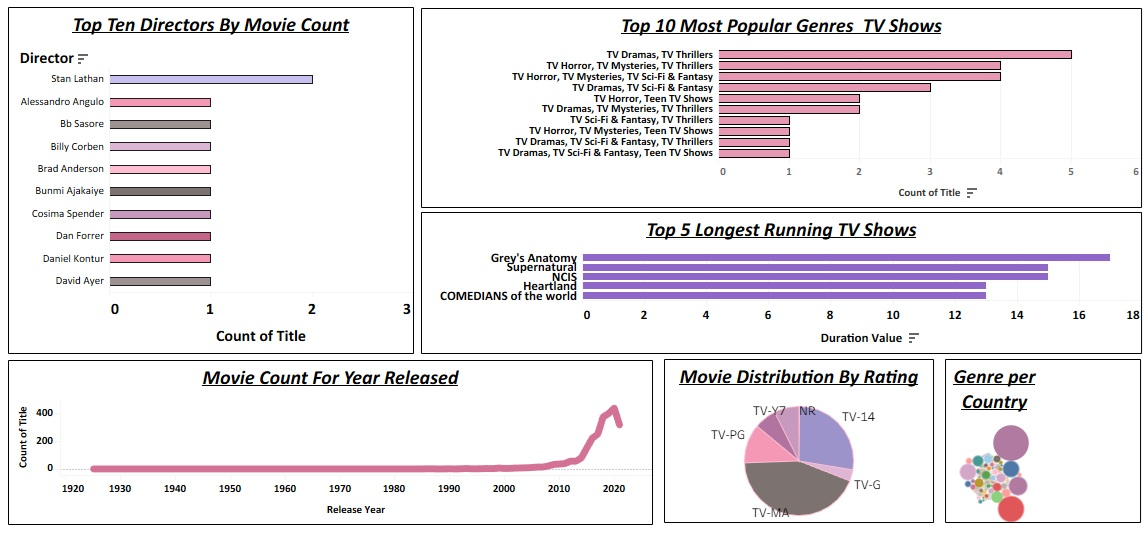

What the dashboard file says about the page in this screenshot:
{"tool":"tableau","page":{"name":"Dashboard 1","canvas":[1000,1000],"units":"permille","ordinal":0},"visuals":[{"type":"worksheet","title":"Top ten directors","mark":"Bar","rows":["director"],"cols":["title"],"box":[10,16.5,351.7,637.9]},{"type":"worksheet","title":"TV popular genres","mark":"Bar","rows":["listed_in"],"cols":["title"],"box":[367.1,18.4,623.9,367.7]},{"type":"worksheet","title":"Top 5 longest running shows","mark":"Automatic","rows":["title"],"cols":["duration_value"],"box":[367.1,393.4,623.9,261]},{"type":"worksheet","title":"Movie distribution","mark":"Pie","box":[577.8,663.6,234.2,301.5]},{"type":"worksheet","title":"Genre per country","mark":"Circle","box":[821,663.6,170,301.5]},{"type":"worksheet","title":"Movie count for years released","mark":"Automatic","rows":["title"],"cols":["release_year"],"box":[10,665.4,558.8,303.3]}]}

Visuals, with their boxes on the dashboard's canvas, which has no fixed pixel size, in thousandths of its width and height (x1, y1, x2, y2). These are canvas units, not pixel positions in the 1145x534 screenshot, which may show the page scaled, cropped or inside an application window:
"Top ten directors" worksheet (Bar marks): 10/16/362/654
"TV popular genres" worksheet (Bar marks): 367/18/991/386
"Top 5 longest running shows" worksheet: 367/393/991/654
"Movie distribution" worksheet (Pie marks): 578/664/812/965
"Genre per country" worksheet (Circle marks): 821/664/991/965
"Movie count for years released" worksheet: 10/665/569/969
